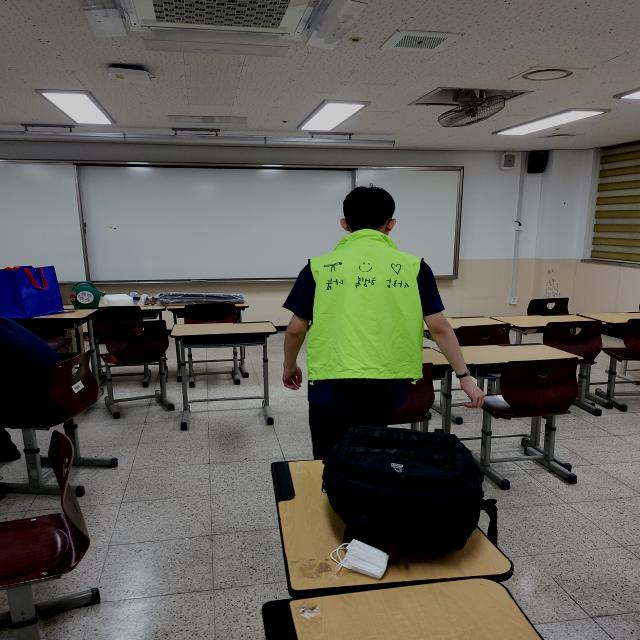weston_spy: (284, 233, 441, 400)
